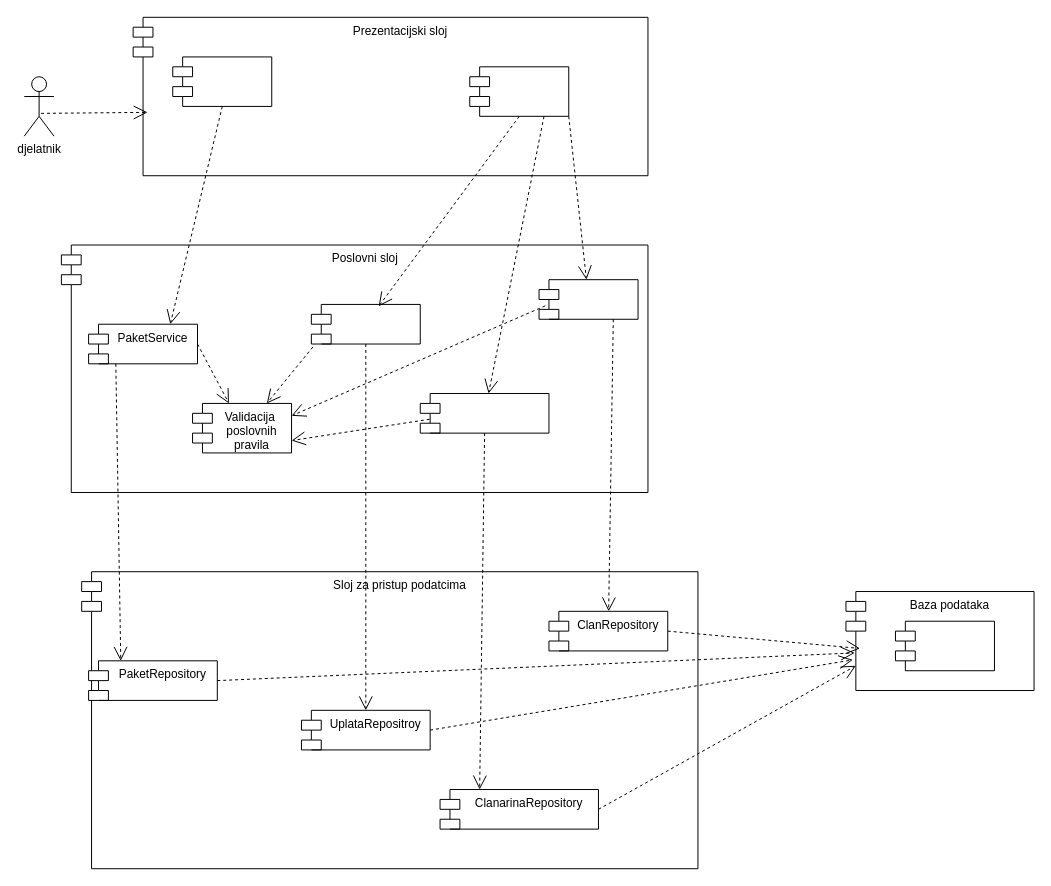
This 1051x886 diagram has some shape labels left out. The shapes that lost their labels are listed below. From the top down, each one's centre as x and y in pixels, then its label:
At point 222,81: "Forma paketa".
At point 519,91: "Forma članarine i uplata".
At point 588,299: "ClanService".
At point 365,323: "UplataService".
At point 484,413: "ClanarinaService".
At point 944,645: "PostgreSQL baza podataka".
